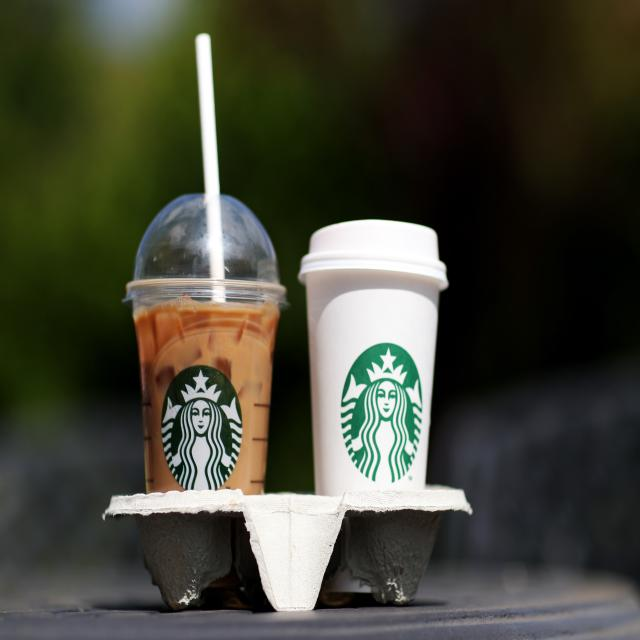starbucks: (338, 338, 424, 484), (162, 361, 248, 494)
